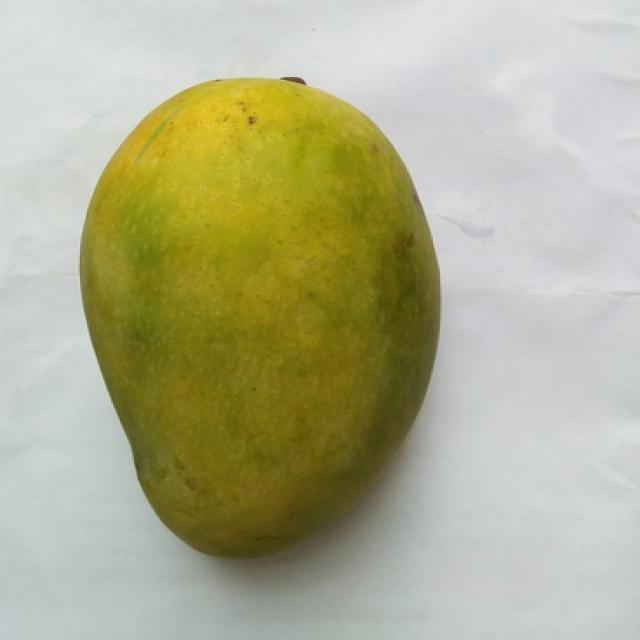Mango: (80, 78, 438, 556)
